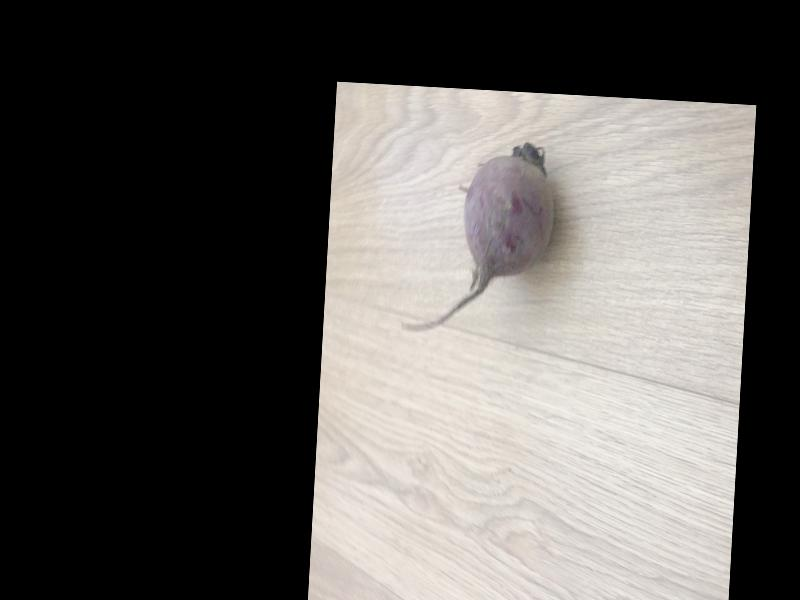Beet: (401, 139, 558, 342)
